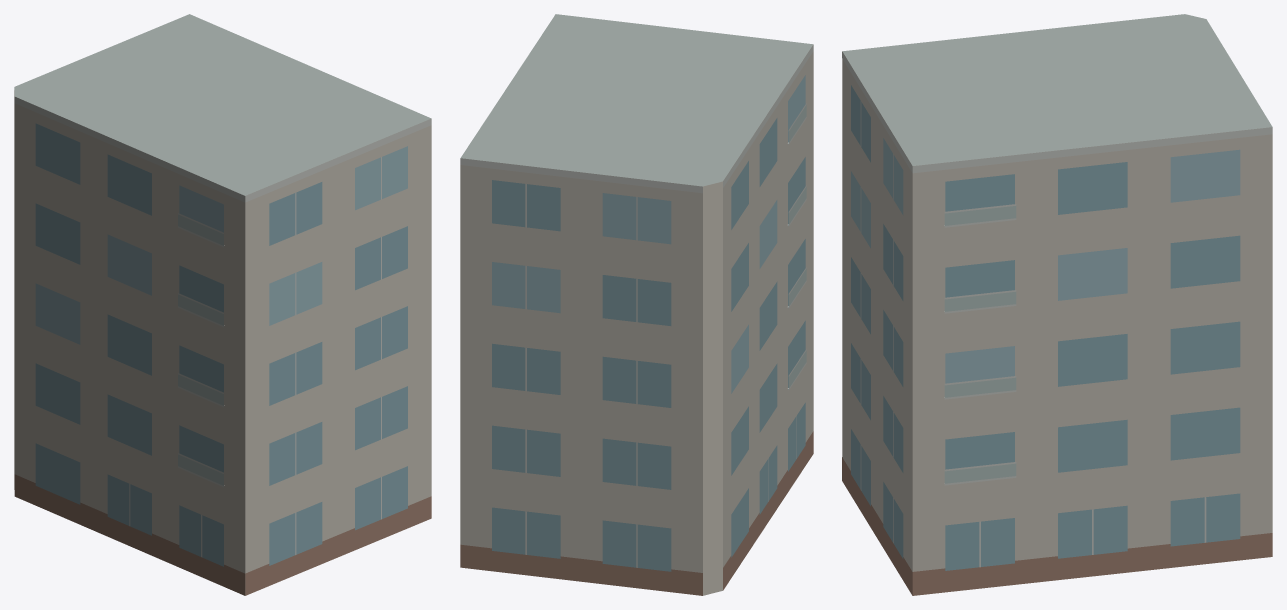
The model's file is survey-upis-32993906.glb.
3 renders of one model, left to right at view 1: azimuth 30°, elevation 25°; view 2: azimuth 150°, elevation 25°; view 3: azimuth 270°, elevation 25°, orthographic. The views are drawn at different scales.
Parts seen in each view (by area): view 1: survey-upis-32993906.tmp; view 2: survey-upis-32993906.tmp; view 3: survey-upis-32993906.tmp.
Part boxes in pixels (x1,y1,x2,y2): survey-upis-32993906.tmp: (14,14,431,595); survey-upis-32993906.tmp: (460,14,813,595); survey-upis-32993906.tmp: (842,14,1272,595).
Bounding box in the file's own units: 11.1 × 14.6 × 13.26.
